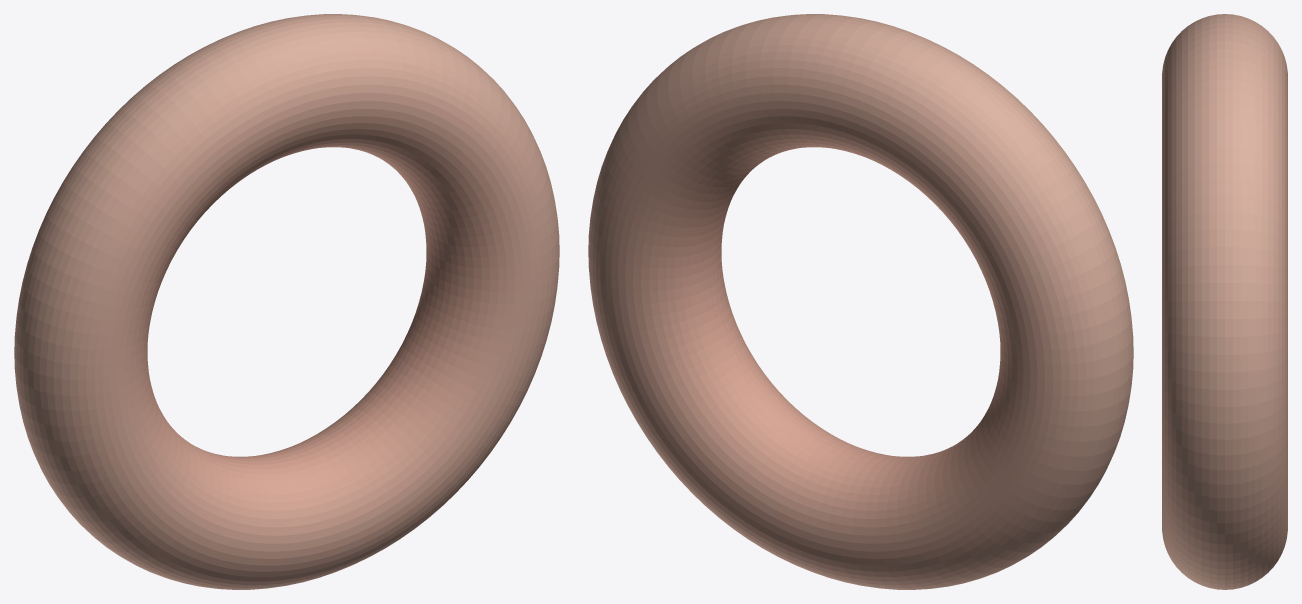
3 views of the same model, side by side, from view 1: azimuth 30°, elevation 25°; view 2: azimuth 150°, elevation 25°; view 3: azimuth 270°, elevation 25° (orthographic). The views are drawn at different scales.
Parts seen in each view (by area): view 1: world; view 2: world; view 3: world.
Part boxes in pixels (bbox=[...]): world: bbox=[14, 14, 559, 589]; world: bbox=[588, 14, 1133, 589]; world: bbox=[1162, 14, 1287, 589].
Bounding box in the file's own units: 29.87 × 29.87 × 6.52.
